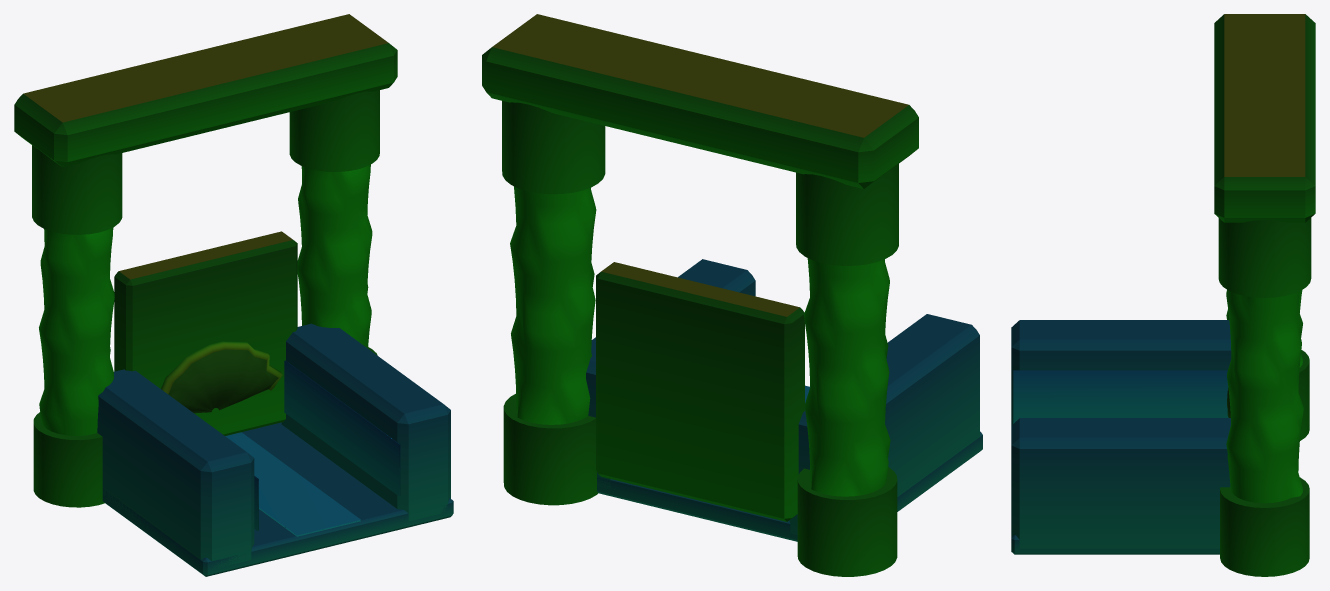
File: shrine_channel_sluice.glb
3 renders of one model, left to right at view 1: azimuth 30°, elevation 25°; view 2: azimuth 150°, elevation 25°; view 3: azimuth 270°, elevation 25°, orthographic. The views are drawn at different scales.
Parts seen in each view (by area): view 1: shrine_channel_sluice; view 2: shrine_channel_sluice; view 3: shrine_channel_sluice.
Part boxes in pixels (left/top/right/bottom): shrine_channel_sluice: left=14, top=14, right=453, bottom=576; shrine_channel_sluice: left=482, top=14, right=982, bottom=576; shrine_channel_sluice: left=1011, top=14, right=1315, bottom=576.
Size of what is drawn, in the model's own units: 0.96 by 1.04 by 0.72.
